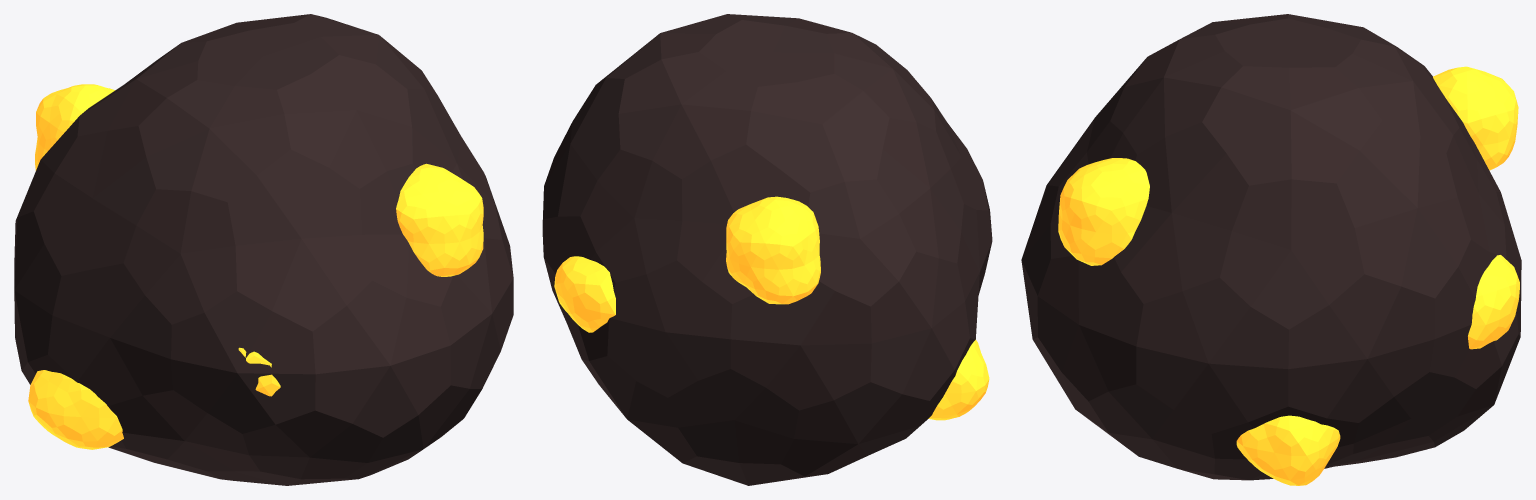
The model's file is batu-jatuh.glb.
The picture shows the model from 3 angles, left to right: view 1: azimuth 30°, elevation 25°; view 2: azimuth 150°, elevation 25°; view 3: azimuth 270°, elevation 25°; orthographic projection. The views are drawn at different scales.
Visible parts, largest first — view 1: Icosphere, Icosphere.006, Icosphere.004, Icosphere.003, Icosphere.005; view 2: Icosphere, Icosphere.003, Icosphere.002, Icosphere.004; view 3: Icosphere, Icosphere.006, Icosphere.003, Icosphere.001, Icosphere.002.
Part boxes in pixels (box(x1,y1,x2,y2)): Icosphere: box(14, 14, 513, 485); Icosphere.006: box(396, 163, 483, 276); Icosphere.004: box(28, 370, 123, 449); Icosphere.003: box(35, 84, 114, 170); Icosphere.005: box(238, 347, 280, 396); Icosphere: box(542, 14, 992, 485); Icosphere.003: box(726, 196, 820, 304); Icosphere.002: box(554, 256, 615, 332); Icosphere.004: box(928, 339, 989, 420); Icosphere: box(1021, 14, 1521, 480); Icosphere.006: box(1058, 158, 1149, 265); Icosphere.003: box(1433, 66, 1518, 170); Icosphere.001: box(1236, 415, 1340, 485); Icosphere.002: box(1468, 255, 1519, 349).
Bounding box in the file's own units: 4.87 × 4.37 × 4.63.
